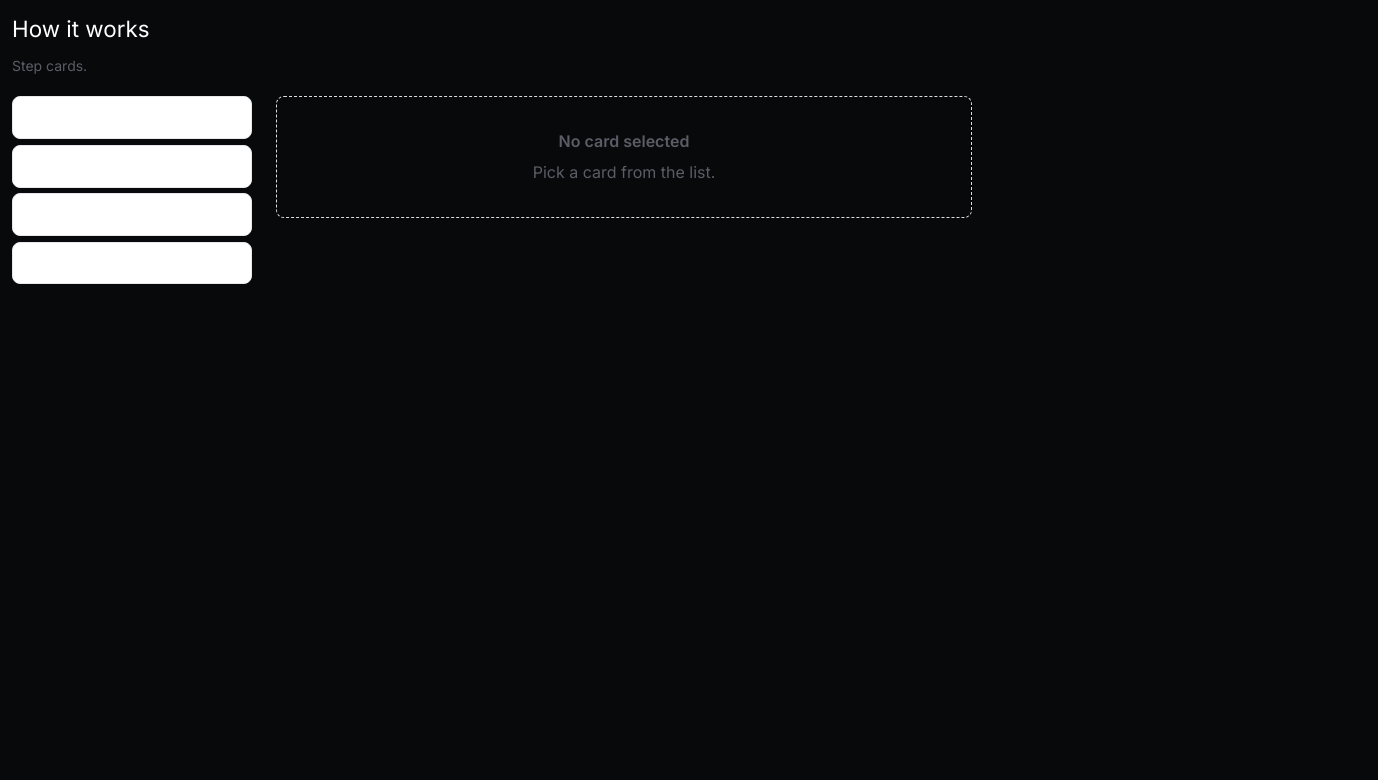
Test: SectionCardsPage › shows a Sub field when editing a HowWork card
The image size is (1378, 780).
Click the button "1 — Define" at (132, 118), box x1=12 y1=96 x2=252 y2=139
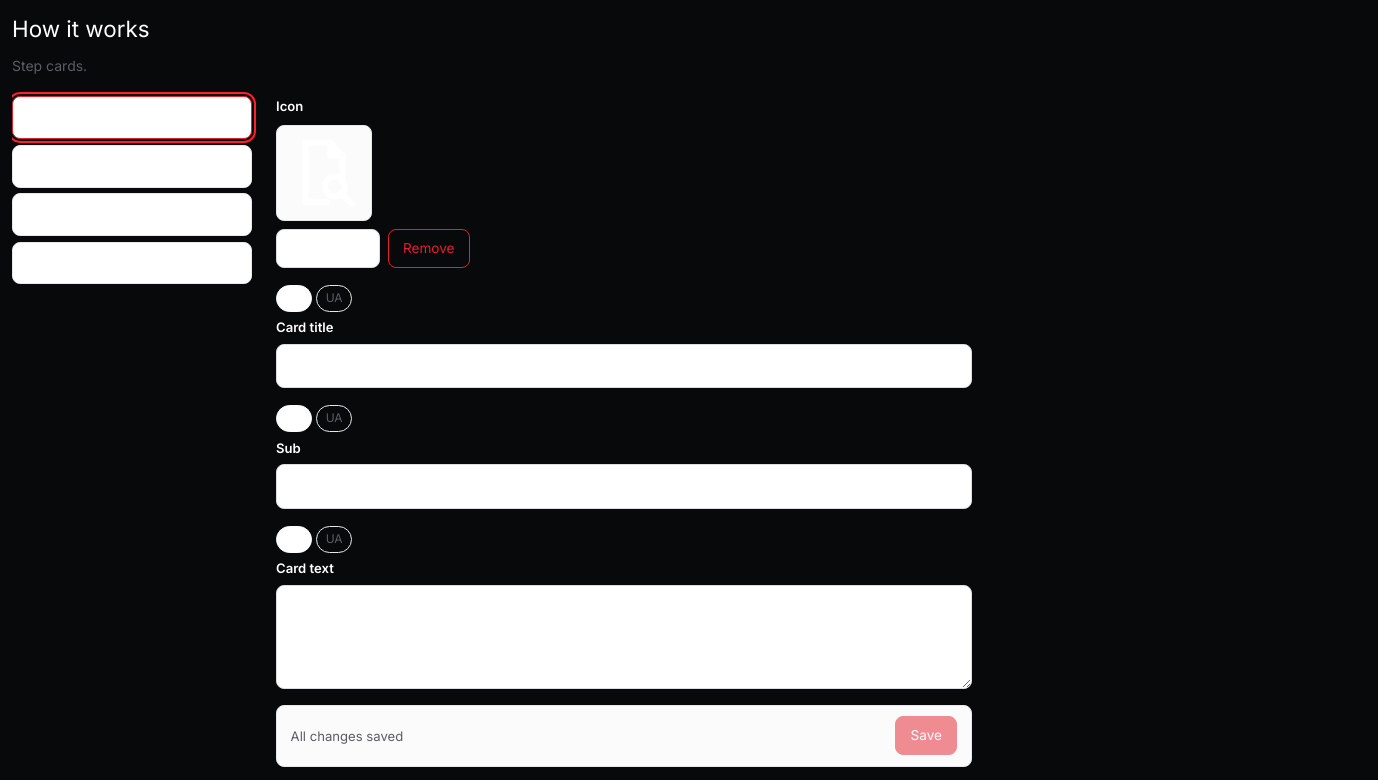
Check: the field labelled "Sub" is shown, box x1=276 y1=464 x2=972 y2=509
